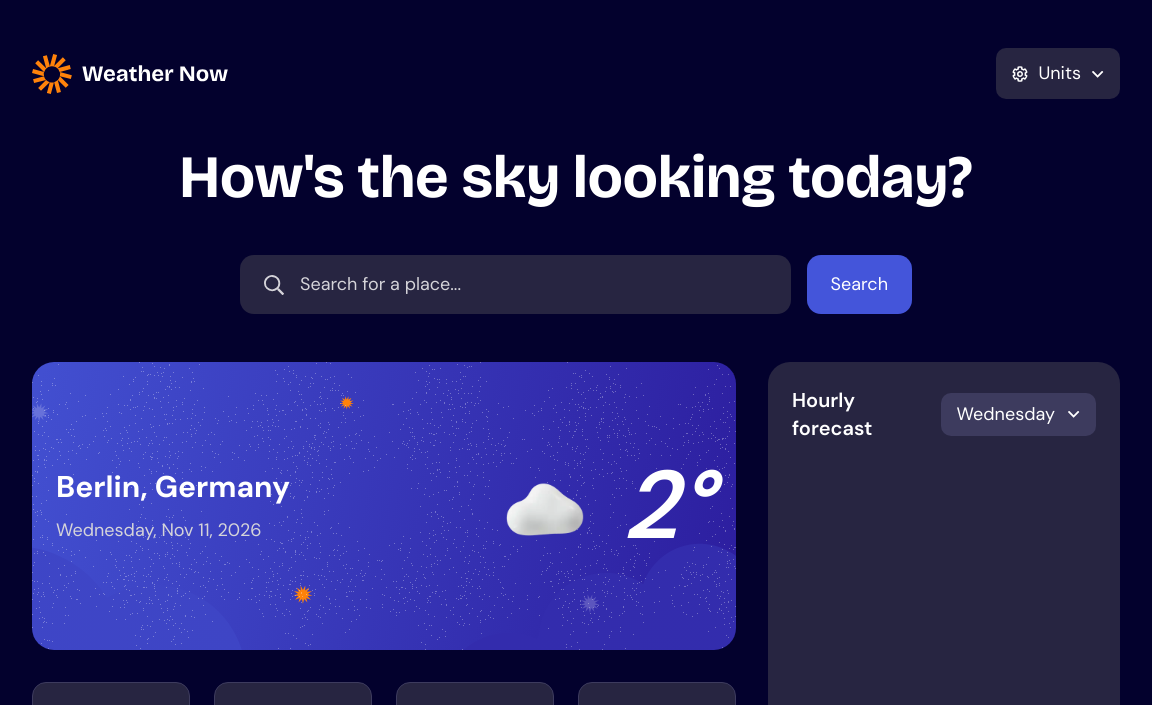
최초 진입 단위 › 처음 Units 드롭다운을 열면 상단 토글 문구가 Switch to Imperial이다
This screenshot has width=1152, height=705.
Expected: the text "Berlin, Germany" is shown, left=56, top=468, right=290, bottom=504
Click the button "Units": (1058, 74) left=996, top=48, right=1120, bottom=99
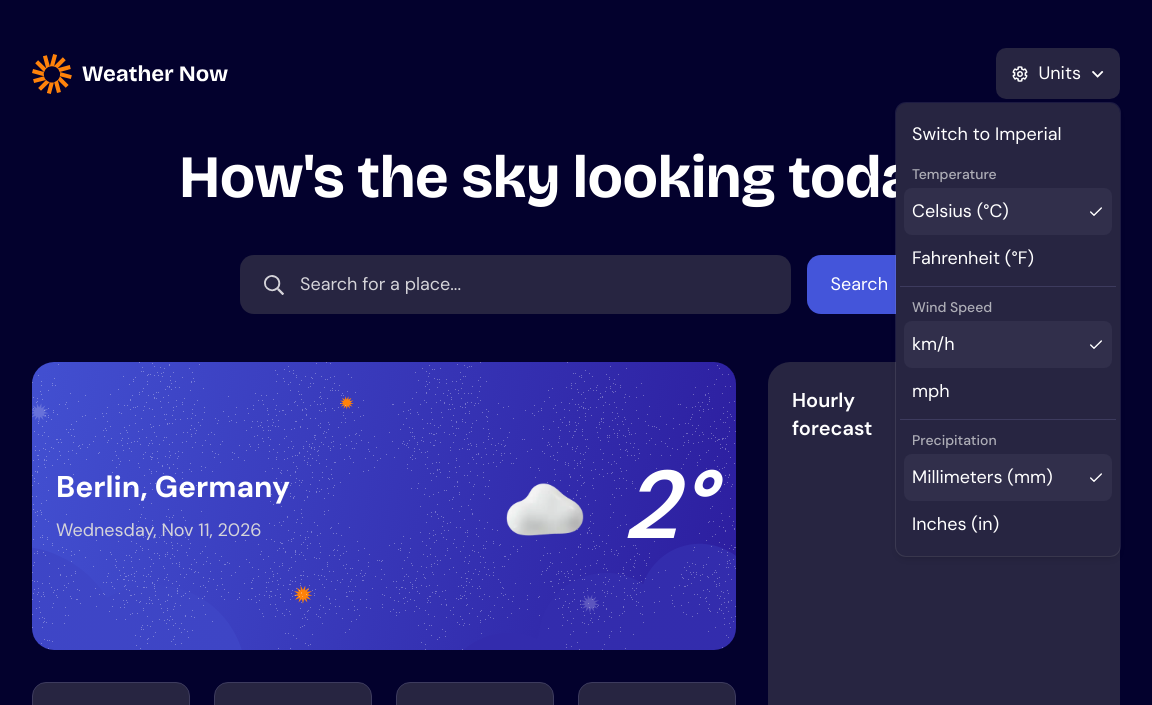
Expected: the menu item "Switch to Imperial" is shown, left=912, top=122, right=1062, bottom=146
